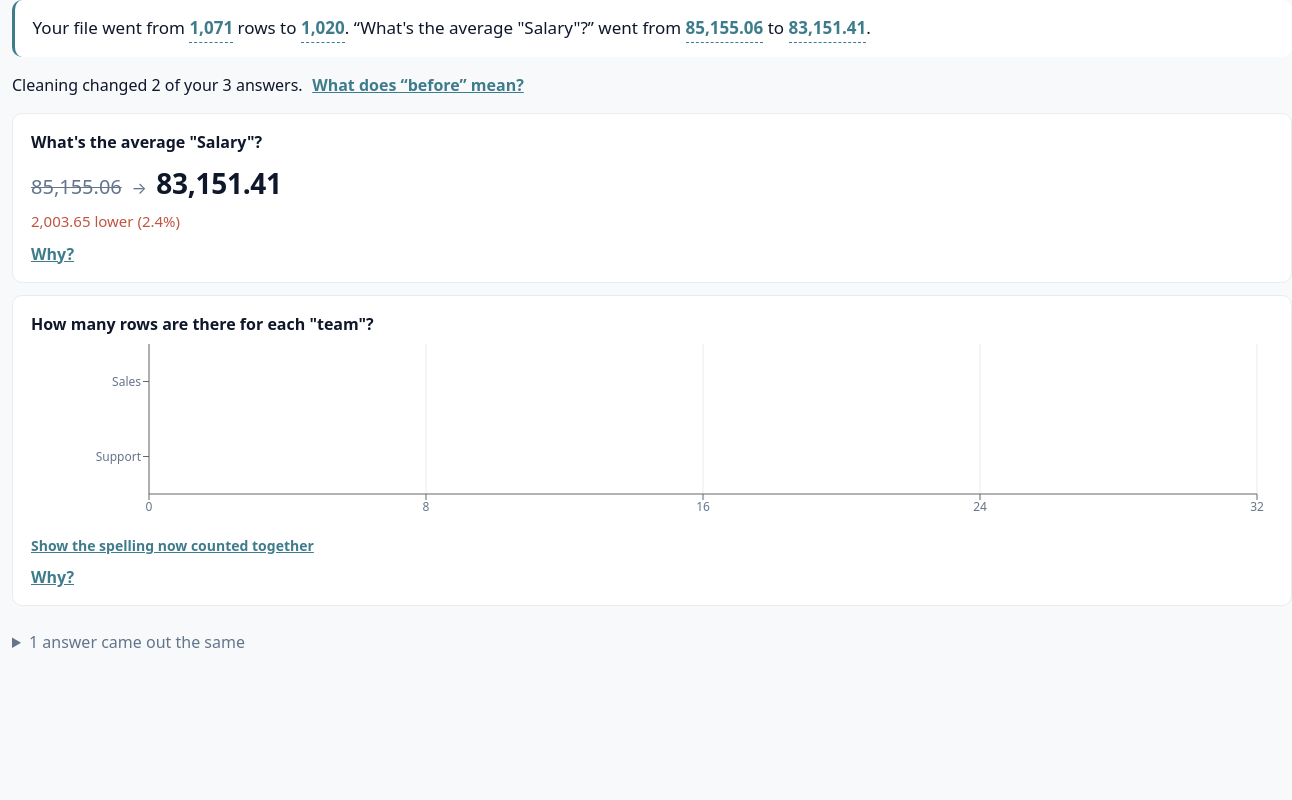
Test case: ComparePage › says a merged spelling is now counted with another, not that rows went missing
The image size is (1292, 800).
Expected: the heading "How many rows are there for each \"team\"?" is shown, [31,313,374,335]
Expected: the text "is now counted with" is not shown
Click the button "Show the spelling now counted together".
click(172, 545)  # box [31,535,314,556]
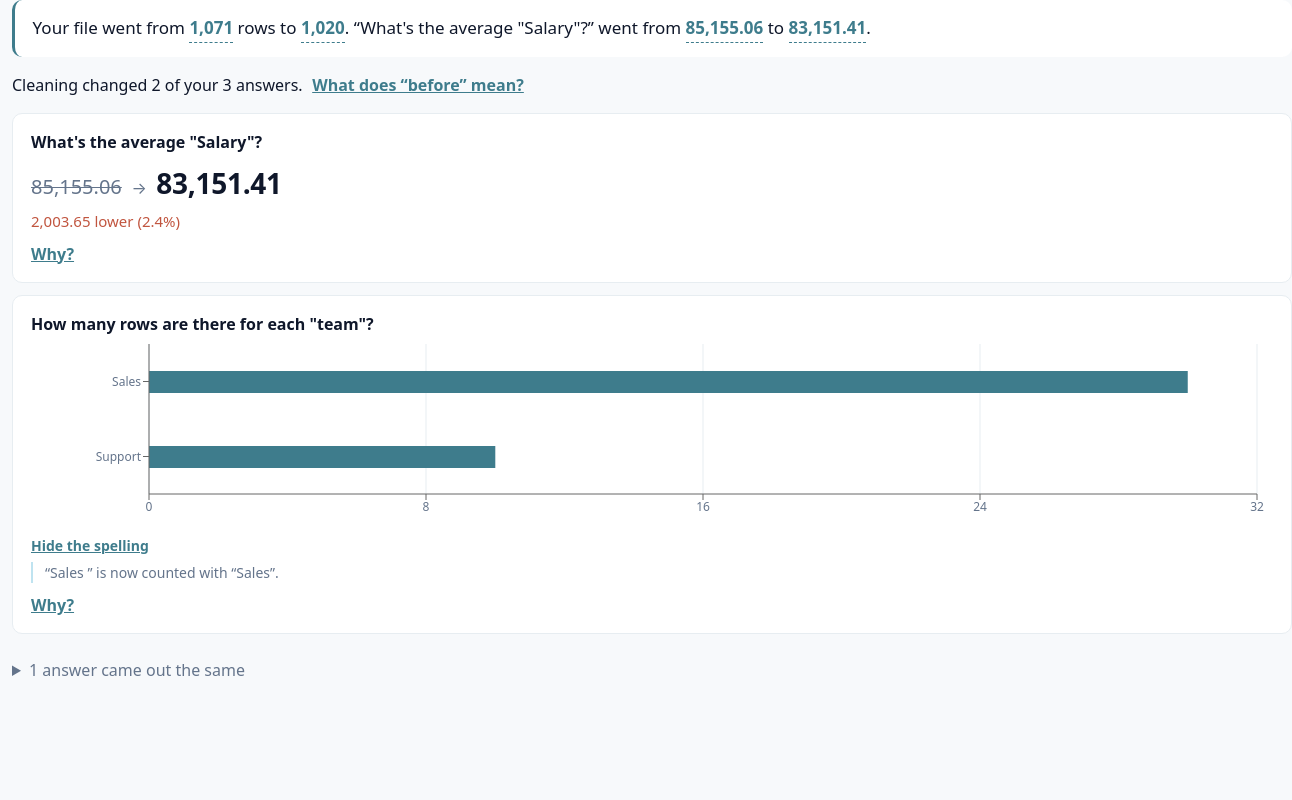
Now the list item "“Sales ” is now counted with “Sales”." is shown, box [45,563,279,582]
